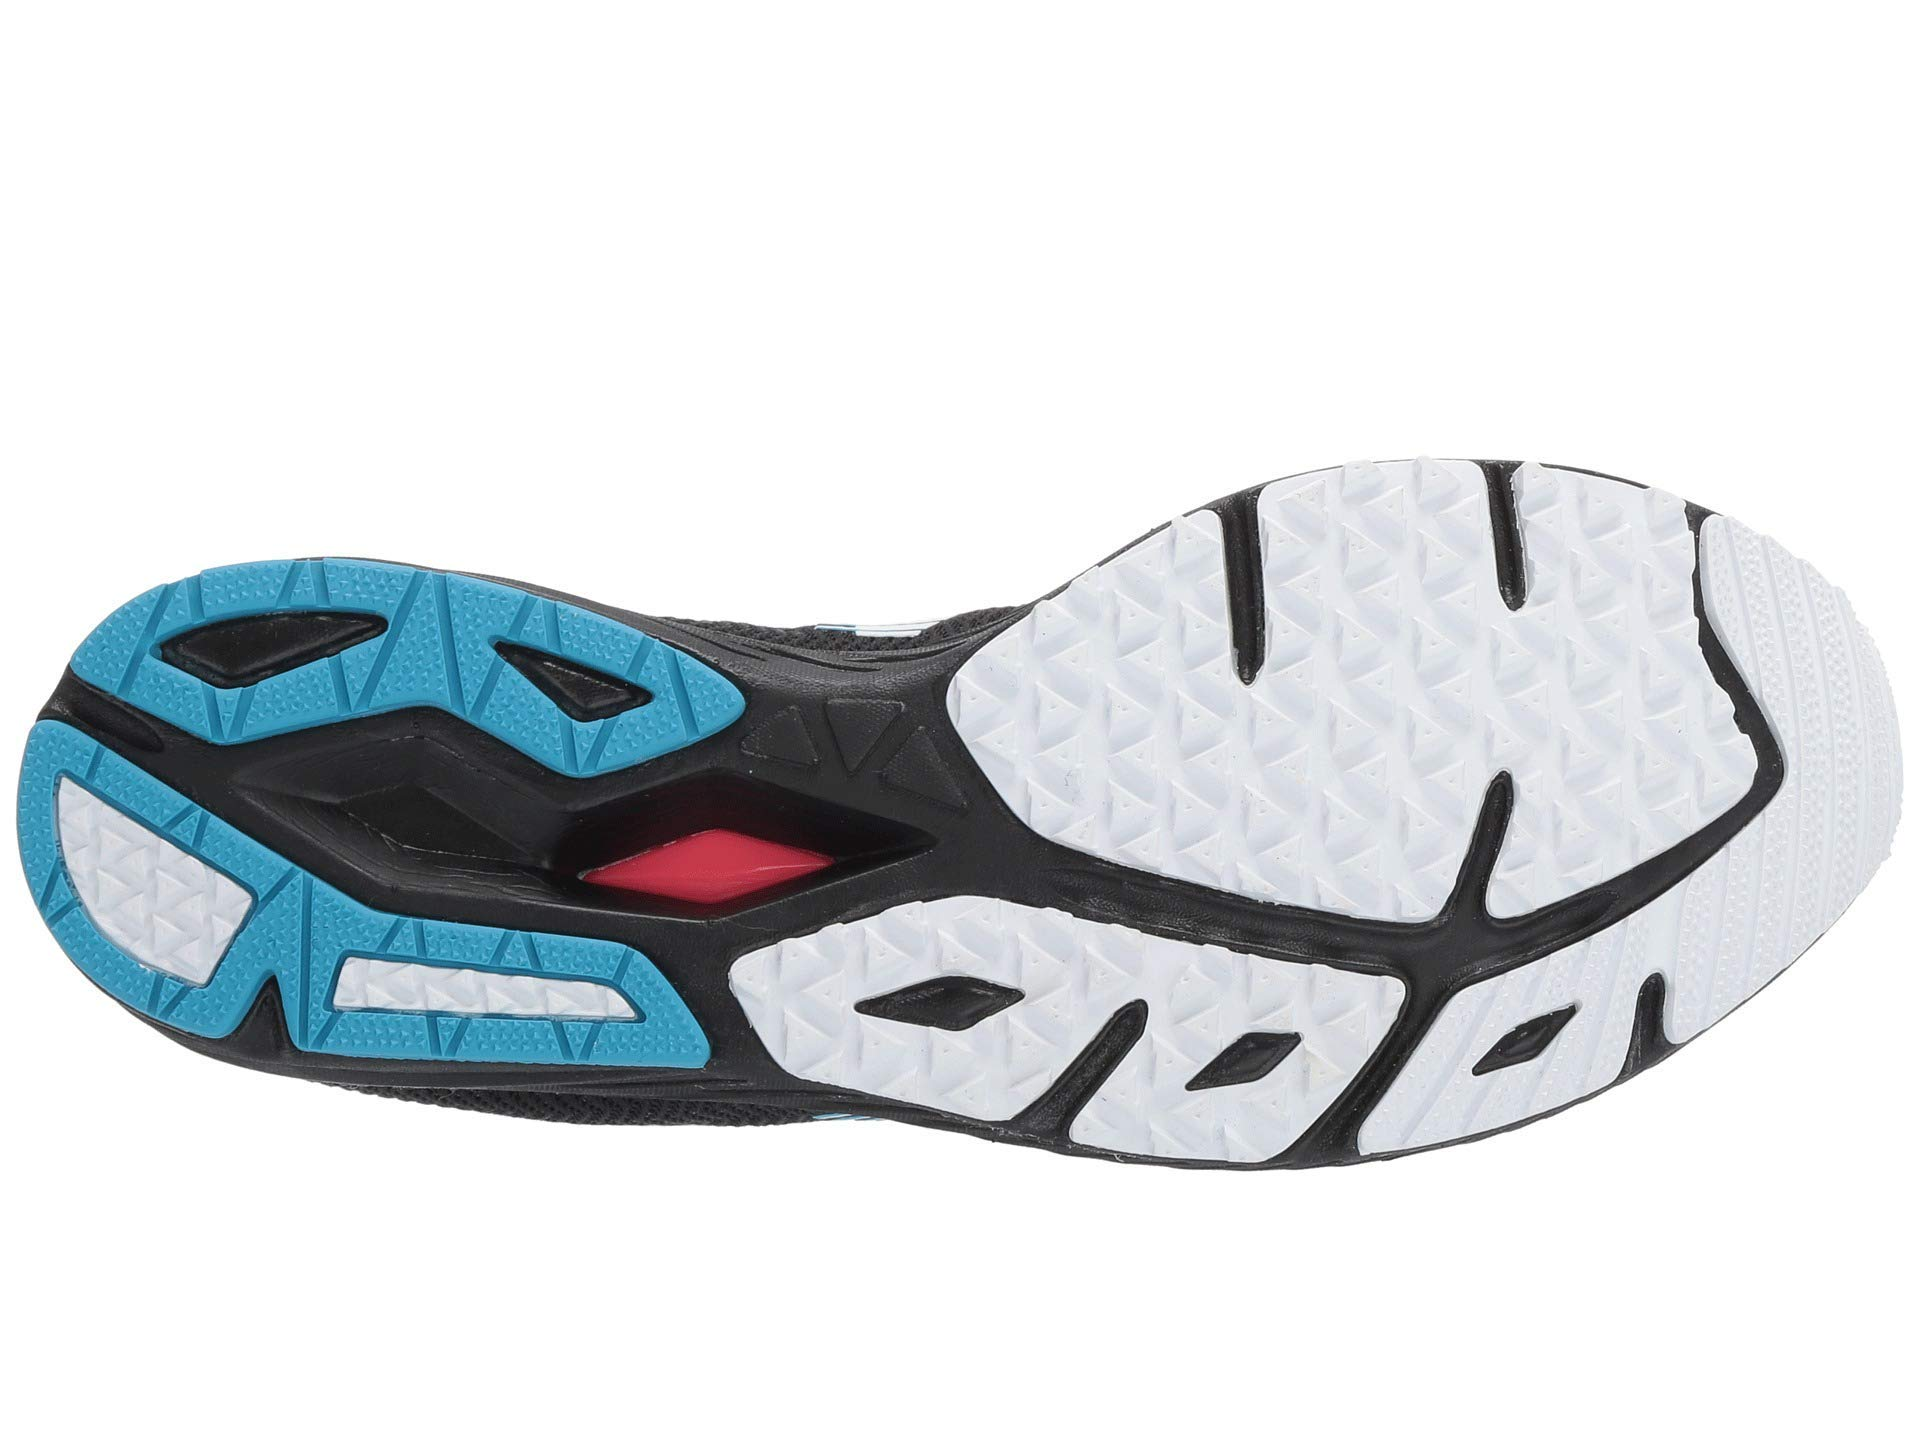triangle: (745, 676, 981, 821)
